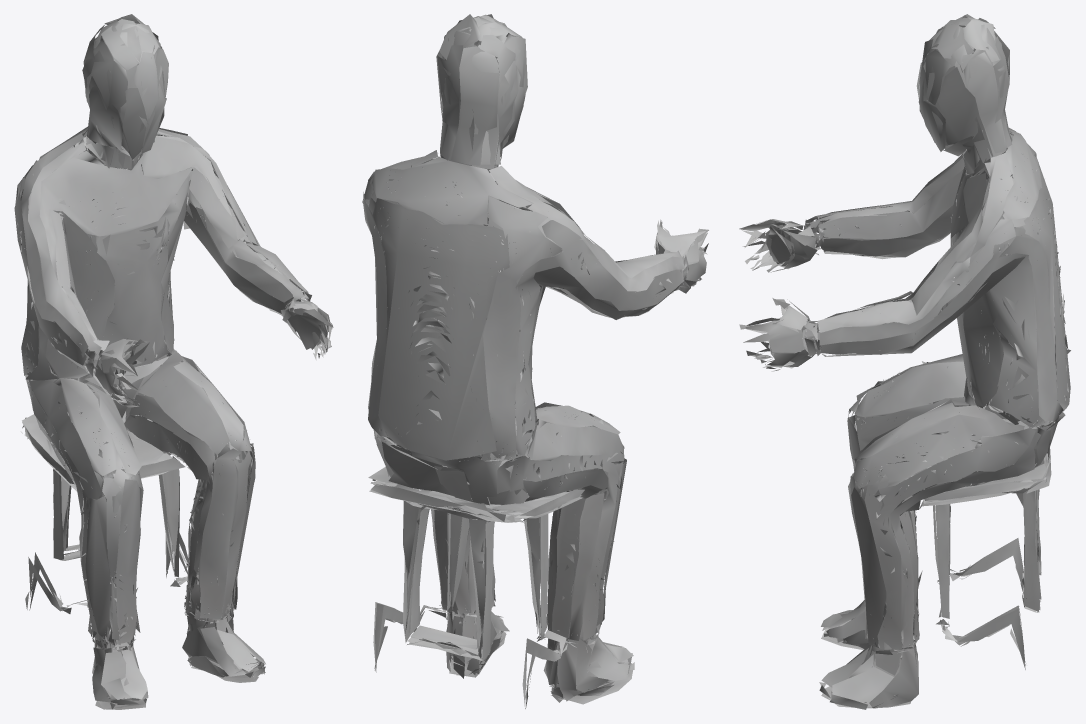
Rendered from musician-seated.glb.
The picture shows the model from 3 angles, left to right: view 1: azimuth 30°, elevation 25°; view 2: azimuth 150°, elevation 25°; view 3: azimuth 270°, elevation 25°; orthographic projection. The views are drawn at different scales.
Parts seen in each view (by area): view 1: Mesh_0; view 2: Mesh_0; view 3: Mesh_0.
Boxes of the visible parts, left/top/right/bottom form: Mesh_0: left=14, top=14, right=333, bottom=709; Mesh_0: left=362, top=14, right=708, bottom=708; Mesh_0: left=739, top=14, right=1070, bottom=709.
Bounding box in the file's own units: 0.5 × 1.3 × 0.5918.
Materials: 1 (1 with a texture image).
